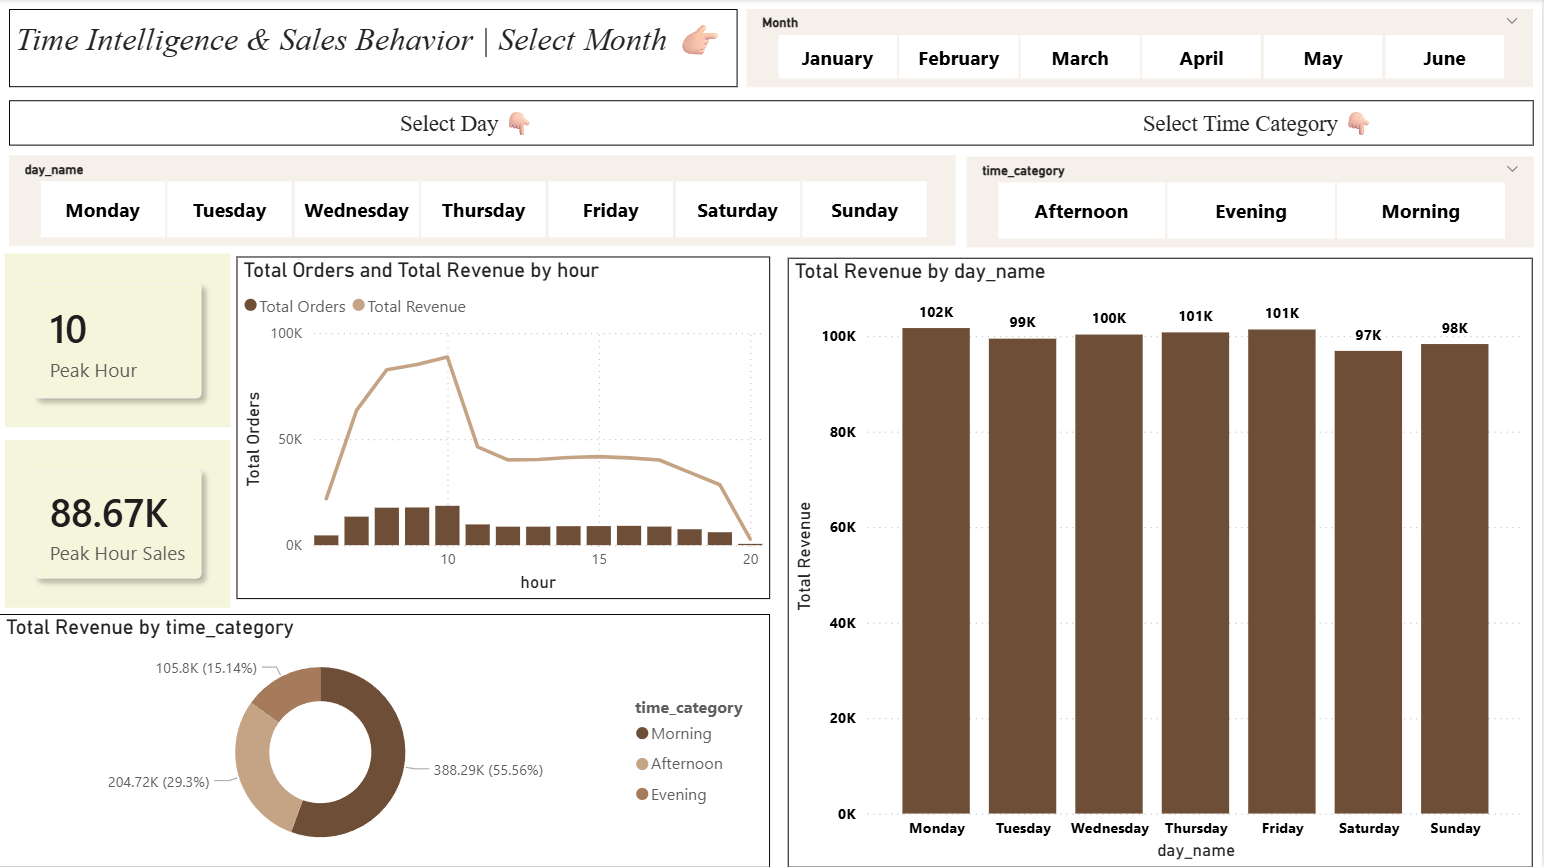

This screenshot's page, from the dashboard's own definition file:
{"tool":"powerbi","page":{"name":"Page 3","canvas":[1280,720],"ordinal":2},"visuals":[{"type":"slicer","fields":{"Values":["CoffeeShopSales_cleaned.Month"]},"box":[619.7,7.8,652.1,64.8],"z":0},{"type":"slicer","fields":{"Values":["Day Table.day_name"]},"box":[7.8,129.5,785,74.8],"z":1000},{"type":"slicer","fields":{"Values":["CoffeeShopSales_cleaned.time_category"]},"box":[801.7,130.6,470.1,74.8],"z":2000},{"type":"textbox","box":[7.8,83.7,1264,38],"z":3000},{"type":"textbox","box":[7.8,7.8,604.1,64.8],"z":4000},{"type":"cardVisual","fields":{"Data":["CoffeeShopSales_cleaned.Peak Hour"]},"box":[0,205.8,197.2,154.4],"z":5000},{"type":"cardVisual","fields":{"Data":["CoffeeShopSales_cleaned.Peak Hour Sales"]},"box":[0,360.2,197.2,149.5],"z":6000},{"type":"clusteredColumnChart","fields":{"Category":["Day Table.day_name"],"Y":["CoffeeShopSales_cleaned.Total Revenue"]},"box":[654.2,214.4,617.5,506],"z":7000},{"type":"donutChart","fields":{"Category":["CoffeeShopSales_cleaned.time_category"],"Y":["CoffeeShopSales_cleaned.Total Revenue"]},"box":[0,509.6,639.5,210.7],"z":8000},{"type":"lineClusteredColumnComboChart","fields":{"Y":["CoffeeShopSales_cleaned.Total Orders"],"Category":["CoffeeShopSales_cleaned.hour"],"Y2":["CoffeeShopSales_cleaned.Total Revenue"]},"box":[197.2,213.2,442.3,284.2],"z":9000}]}

Visuals, with their boxes in screenshot pixels (x1, y1, x2, y2), scaled from the page's 1280x720 canvas onto the 1544x867 screenshot:
slicer - CoffeeShopSales_cleaned.Month: rect(748, 9, 1534, 87)
slicer - Day Table.day_name: rect(9, 156, 956, 246)
slicer - CoffeeShopSales_cleaned.time_category: rect(967, 157, 1534, 247)
textbox: rect(9, 101, 1534, 147)
textbox: rect(9, 9, 738, 87)
cardVisual - CoffeeShopSales_cleaned.Peak Hour: rect(0, 248, 238, 434)
cardVisual - CoffeeShopSales_cleaned.Peak Hour Sales: rect(0, 434, 238, 614)
clusteredColumnChart - Day Table.day_name x CoffeeShopSales_cleaned.Total Revenue: rect(789, 258, 1534, 866)
donutChart - CoffeeShopSales_cleaned.time_category x CoffeeShopSales_cleaned.Total Revenue: rect(0, 614, 771, 866)
lineClusteredColumnComboChart - CoffeeShopSales_cleaned.Total Orders x CoffeeShopSales_cleaned.hour: rect(238, 257, 771, 599)
